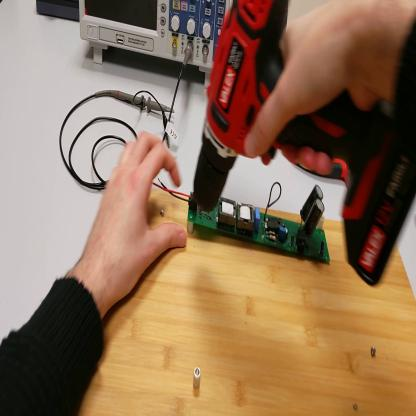electric screwdriver: (193, 1, 416, 288)
hand: (240, 3, 401, 166), (89, 129, 189, 301)
high voltage board: (153, 177, 335, 262)
oscilloscope: (79, 2, 232, 87)
oscilloscope probe tip: (106, 88, 174, 118)
socket: (37, 1, 79, 22)
working area: (81, 186, 416, 415)
